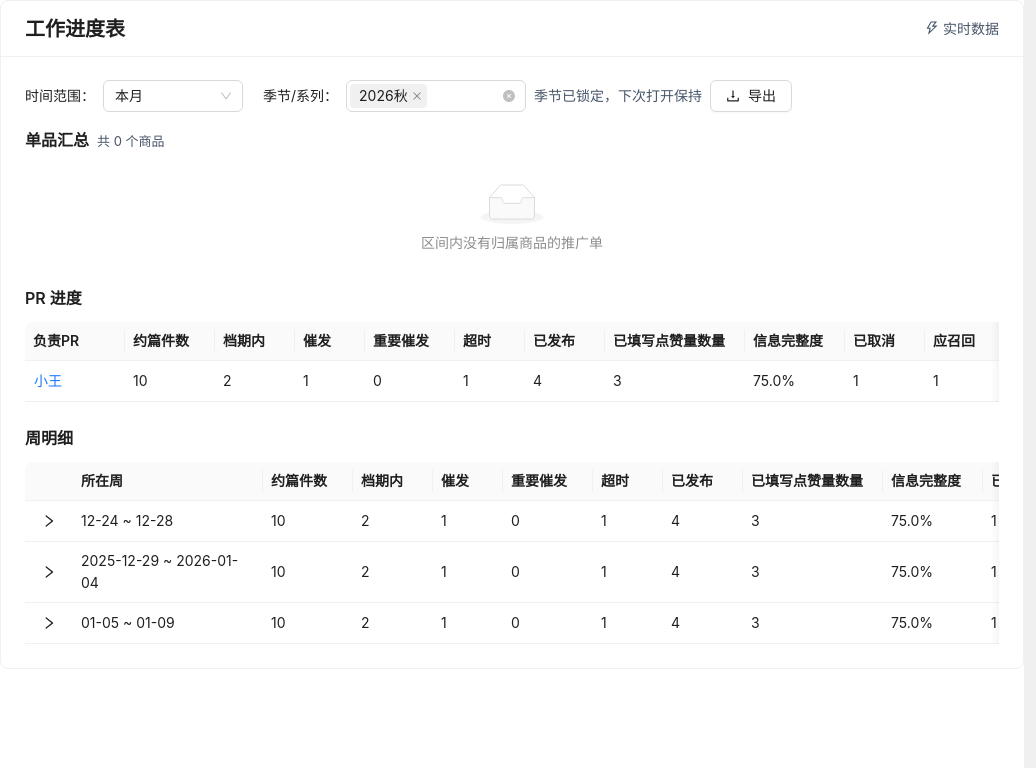
Test: WorkProgressPage 周明细 › 展开周行：下钻 = 行上实际起止 + 季节，不限 PR / 商品；再点收起
Click the button named "展开 12-24 ~ 12-28 的推广单".
click(49, 521)  # box 37,509 -> 61,533
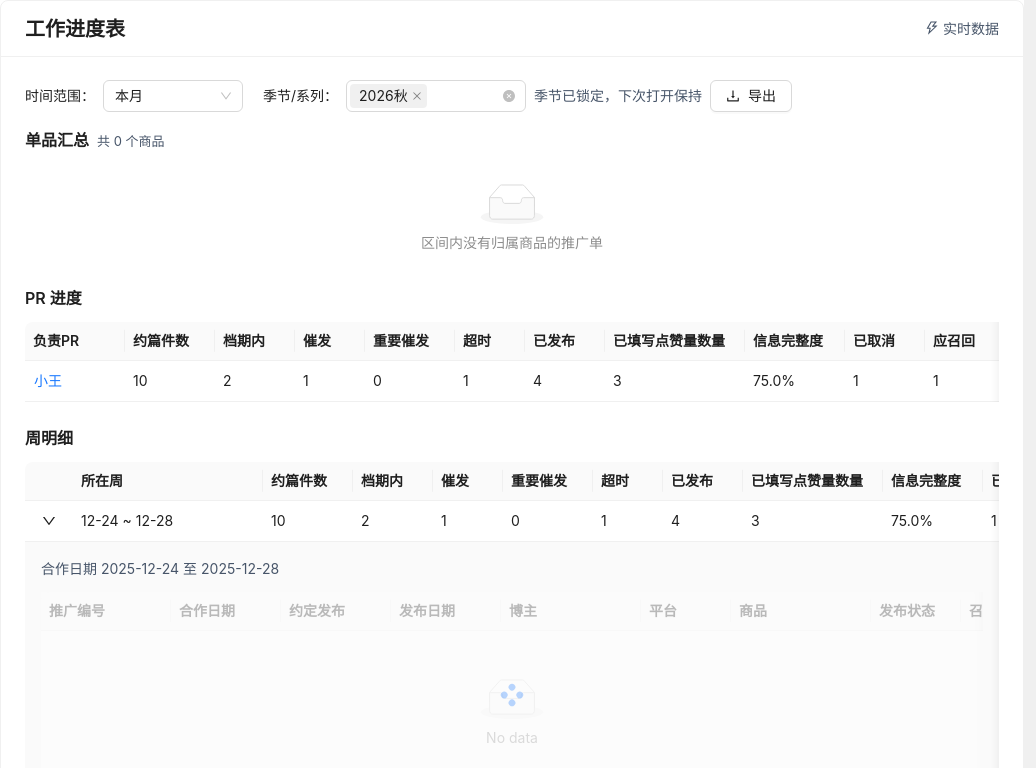
Result: the text "合作日期 2025-12-24 至 2025-12-28" is shown at 41,560 -> 279,577
Result: the button named "收起 12-24 ~ 12-28 的推广单" is expanded
Click the button named "收起 12-24 ~ 12-28 的推广单".
click(49, 521)  # box 37,509 -> 61,533
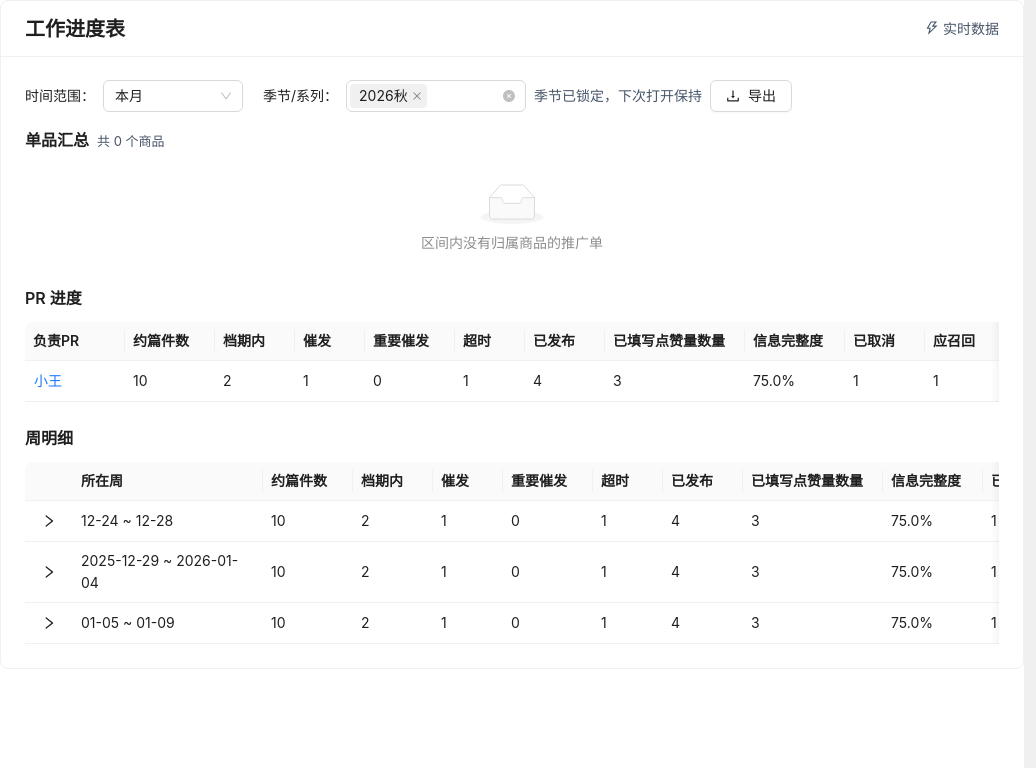
Result: the button named "展开 12-24 ~ 12-28 的推广单" is collapsed at 37,509 -> 61,533
